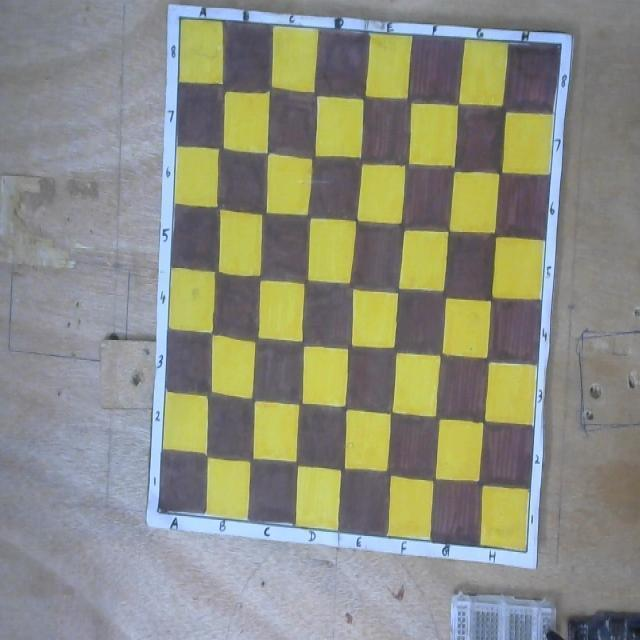chess-table-corners: (178, 14, 185, 24), (155, 505, 161, 515), (522, 545, 528, 555), (558, 41, 563, 51)
